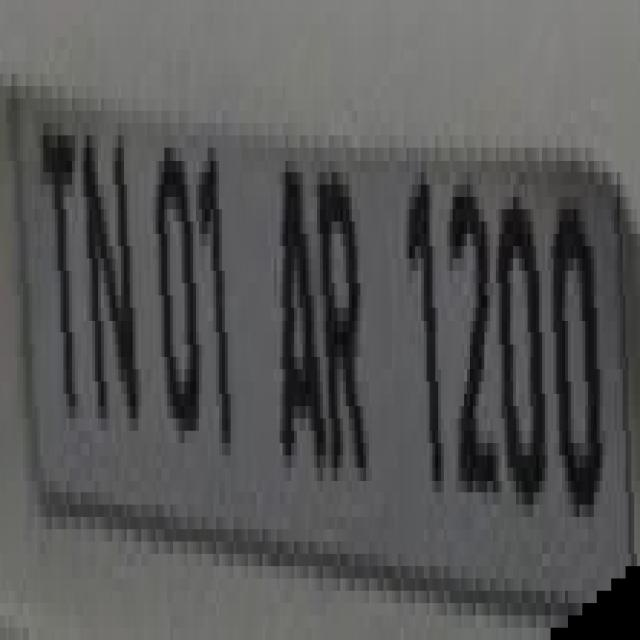license_plate: (0, 0, 608, 615)
